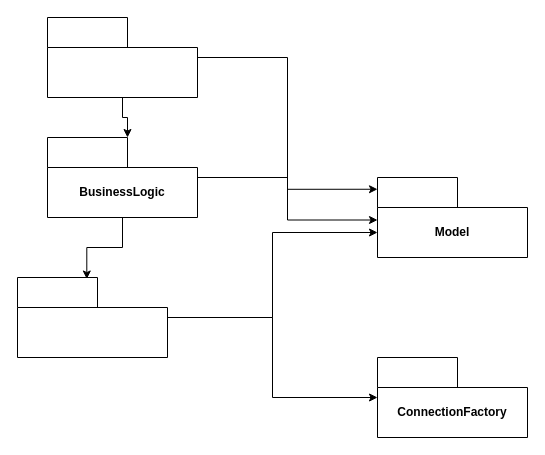
This 545x455 diagram has some shape labels left out. The shapes that lost their labels are listed below. From the top down, each one's centre as x and y in pixels, then its label:
At (122,57): "Presentation".
At (92,317): "DataAccess".
